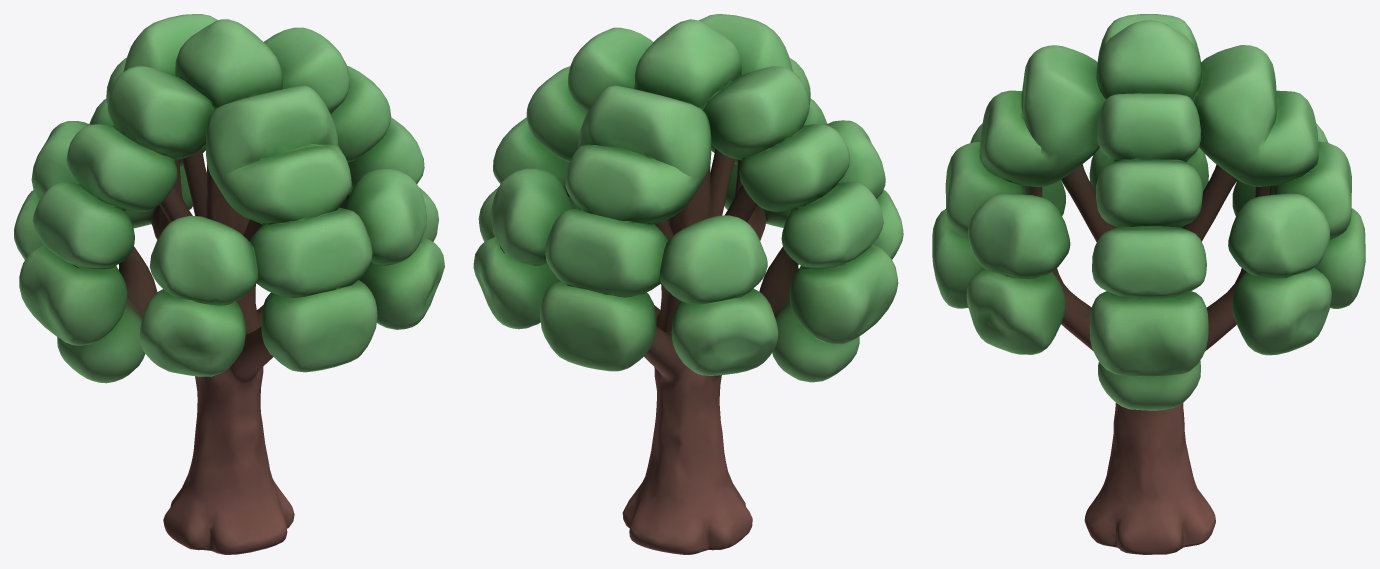
The model's file is tree.glb.
The picture shows the model from 3 angles, left to right: view 1: azimuth 30°, elevation 25°; view 2: azimuth 150°, elevation 25°; view 3: azimuth 270°, elevation 25°; orthographic projection.
Visible parts, largest first — view 1: Mesh; view 2: Mesh; view 3: Mesh.
Boxes of the visible parts, x1=… form: Mesh: x1=14, y1=14, x2=444, y2=554; Mesh: x1=473, y1=14, x2=903, y2=554; Mesh: x1=932, y1=14, x2=1365, y2=554.
Bounding box in the file's own units: 1.5 × 1.91 × 1.47.
Materials: 1 (1 with a texture image).
